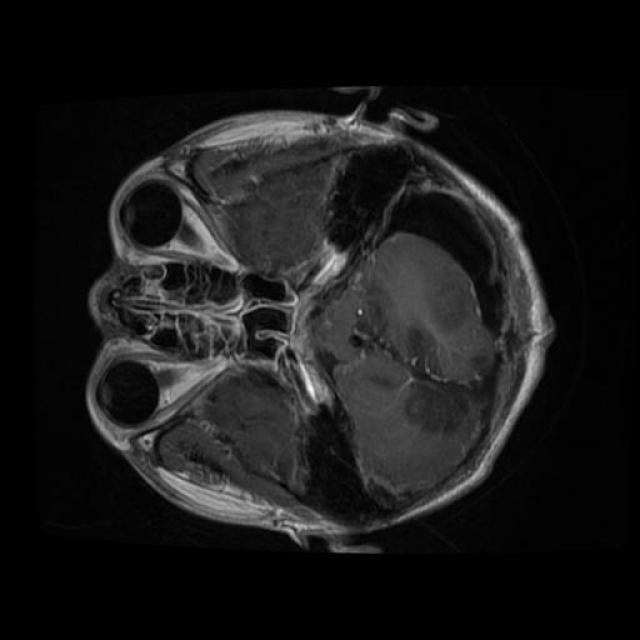Glioma: (388, 195, 499, 328)
